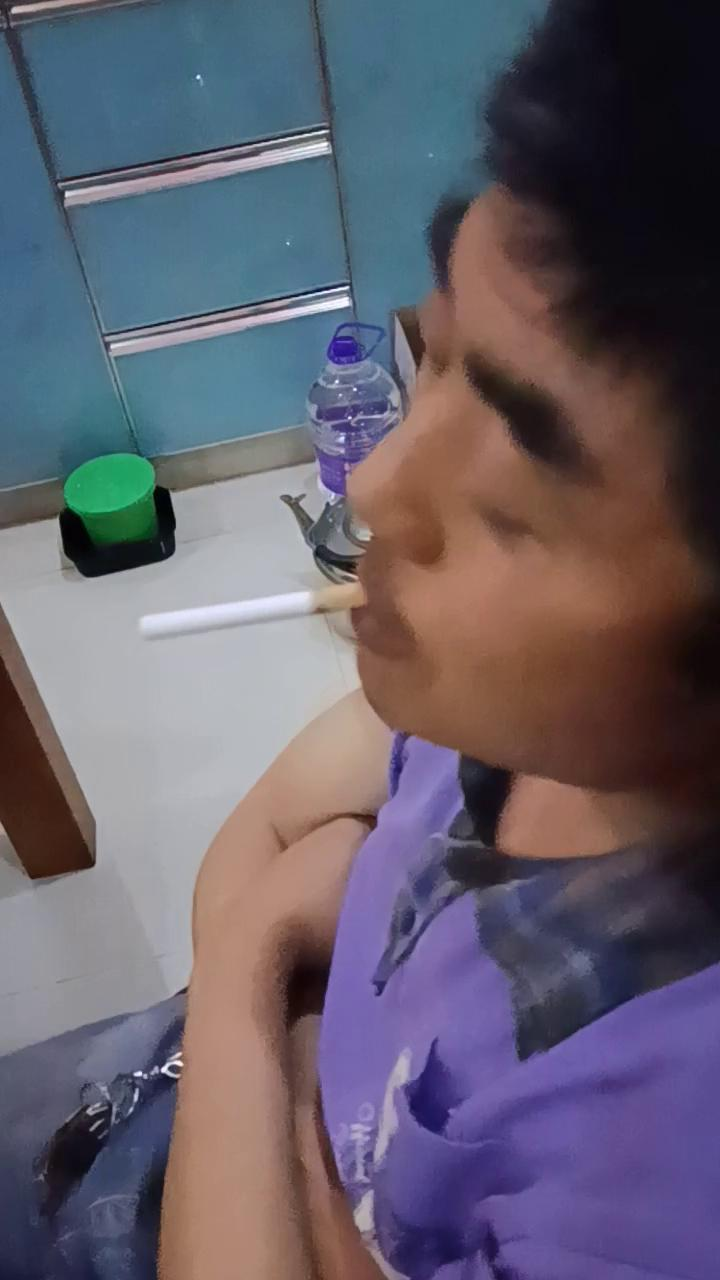smoke: (137, 582, 370, 642)
